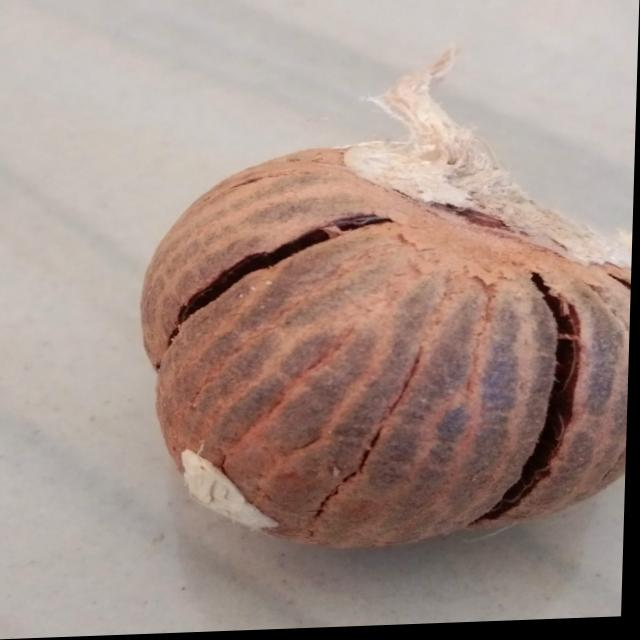phatora: (95, 67, 638, 582)
